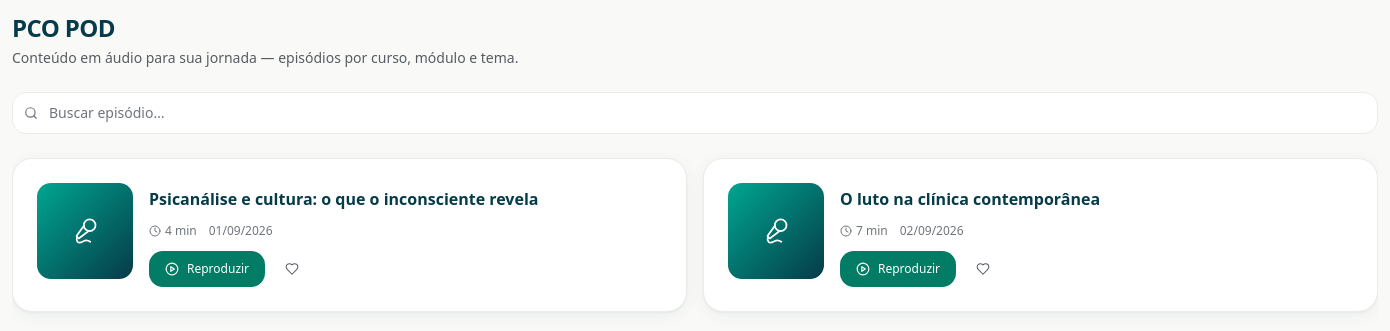
Scenario: busca nos episódios › acha pelo título
The image size is (1390, 331).
Type "luto" into the search field at (695, 113), box x1=12 y1=92 x2=1378 y2=134
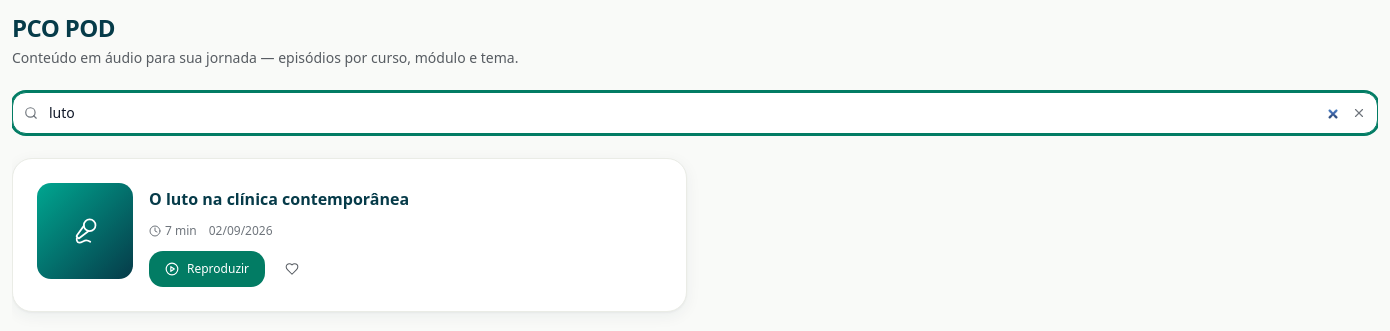
expect the heading "O luto na clínica contemporânea" is shown: met, box x1=149 y1=188 x2=409 y2=210
expect the heading "Psicanálise e cultura" is gone: met
